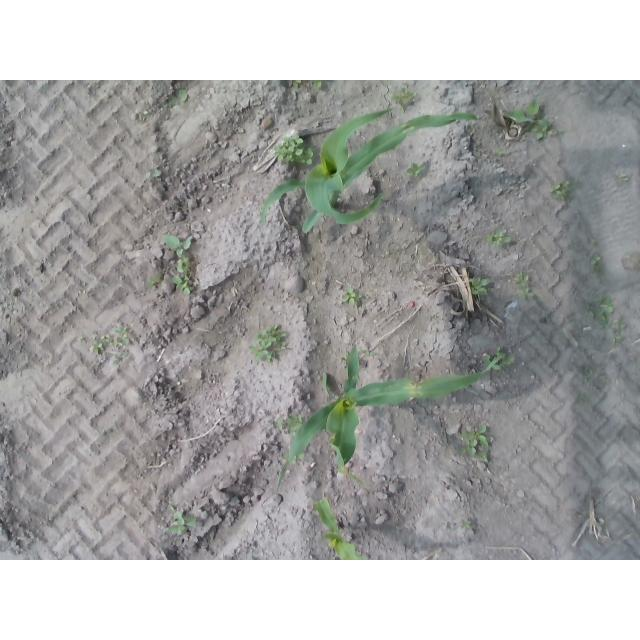Maize: (275, 343, 506, 492), (259, 109, 481, 235), (316, 499, 365, 557)
Weeds: (508, 99, 563, 141), (167, 235, 202, 298), (79, 329, 131, 365), (249, 323, 287, 365), (273, 134, 315, 171), (459, 424, 491, 464), (513, 268, 537, 300), (170, 512, 200, 537), (591, 295, 615, 326), (484, 348, 517, 370), (338, 286, 367, 310), (273, 415, 304, 433), (163, 90, 197, 105), (394, 89, 418, 110), (608, 318, 626, 344), (408, 161, 429, 183), (487, 230, 514, 247), (145, 269, 164, 293), (472, 275, 491, 297), (144, 164, 164, 184), (553, 179, 570, 201), (361, 345, 379, 364), (592, 251, 605, 273), (460, 517, 473, 531), (314, 83, 329, 93), (291, 81, 304, 92)
